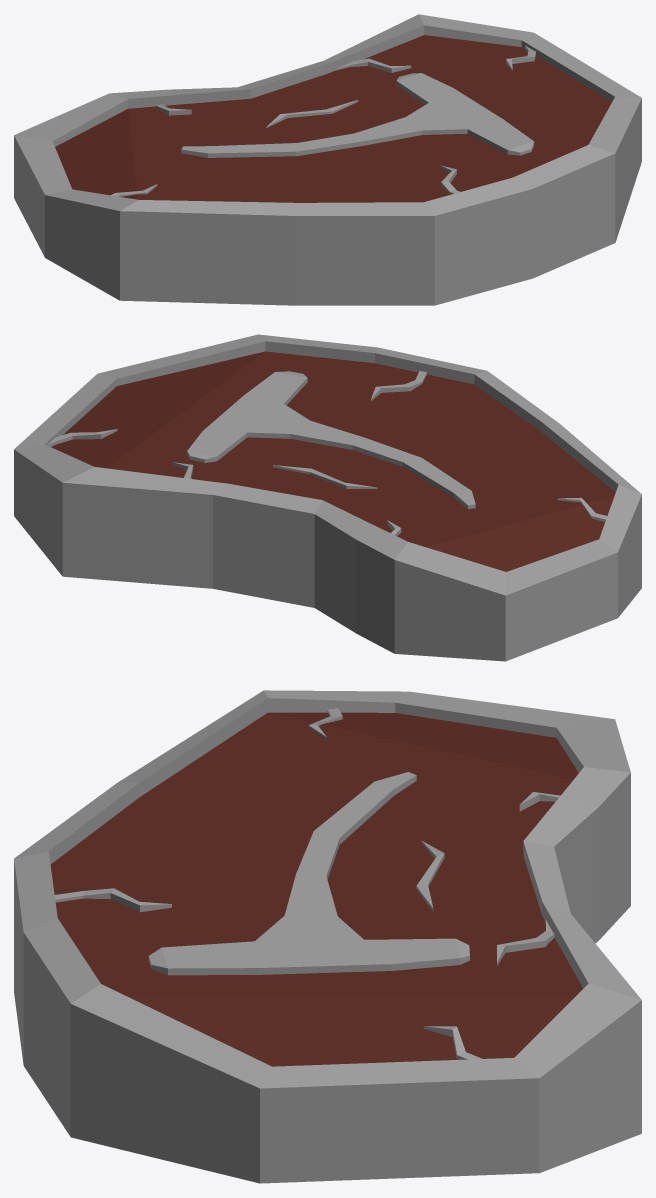
Rendered from Steak.glb.
The picture shows the model from 3 angles, top to bottom: view 1: azimuth 30°, elevation 25°; view 2: azimuth 150°, elevation 25°; view 3: azimuth 270°, elevation 25°; orthographic projection. The views are drawn at different scales.
Parts seen in each view (by area): view 1: Steak.001; view 2: Steak.001; view 3: Steak.001.
Boxes of the visible parts, left/top/right/bottom form: Steak.001: left=14, top=14, right=641, bottom=305; Steak.001: left=14, top=334, right=641, bottom=661; Steak.001: left=14, top=690, right=641, bottom=1183.
Size of the model in its own units: 1.46 by 0.2548 by 0.9746.
